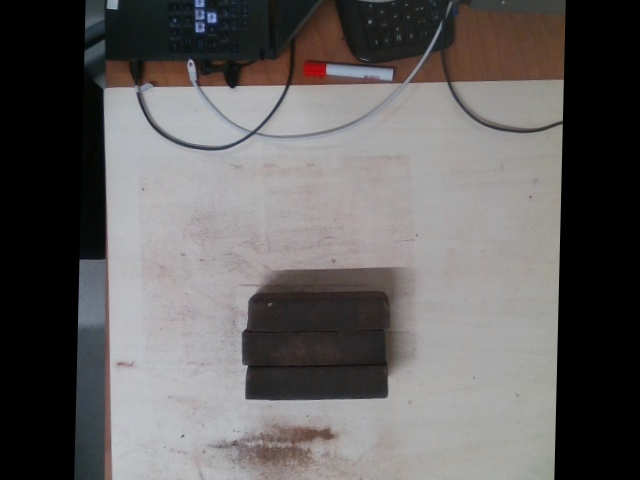brick-side: (241, 332, 383, 365), (249, 299, 388, 332), (246, 368, 386, 400)
